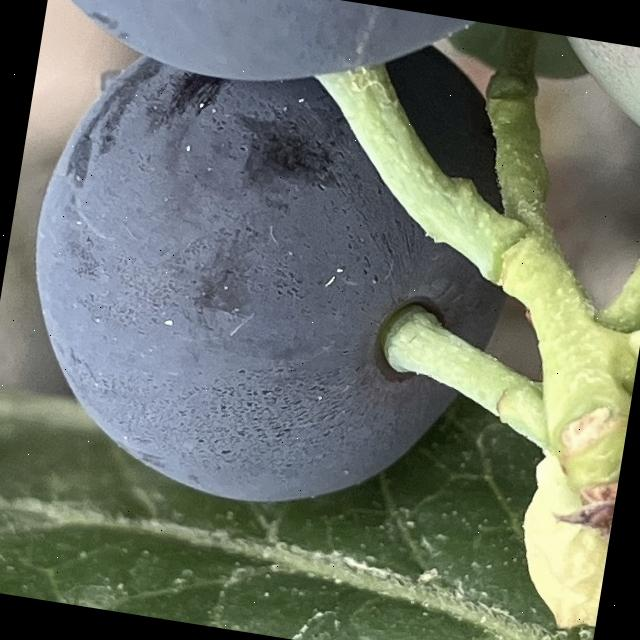Blueberries: (0, 0, 544, 542)
